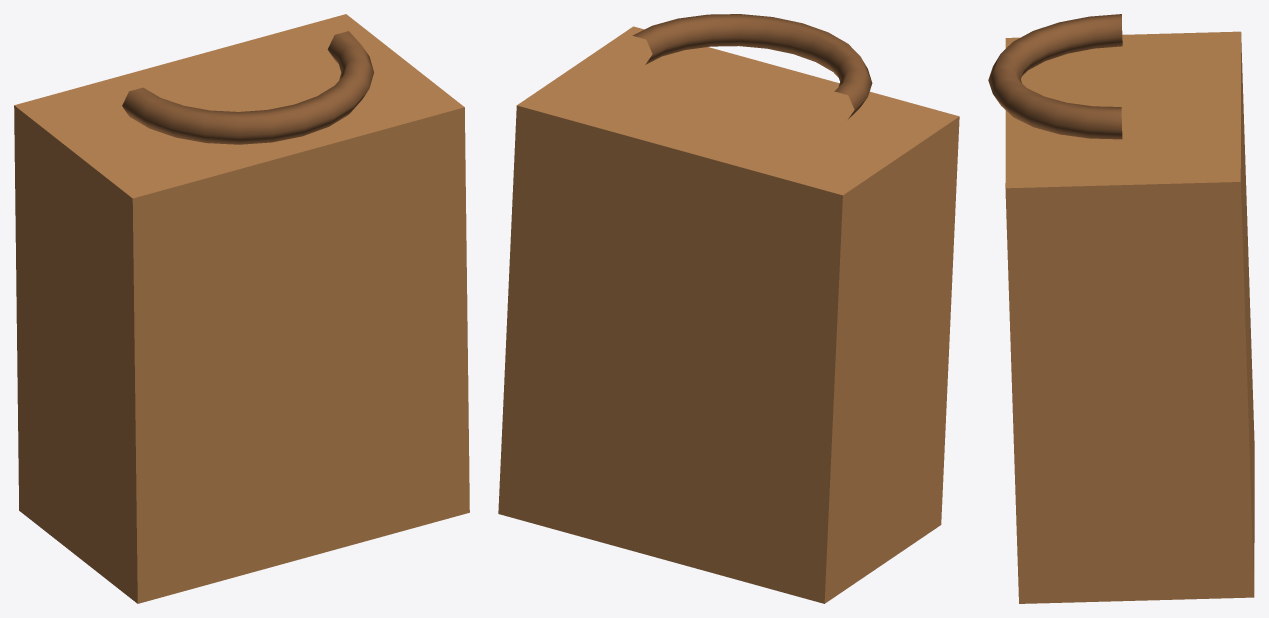
Rendered from customer-bag.glb.
3 views of the same model, side by side, from view 1: azimuth 30°, elevation 25°; view 2: azimuth 150°, elevation 25°; view 3: azimuth 270°, elevation 25° (orthographic).
Parts seen in each view (by area): view 1: n2, n3; view 2: n2, n3; view 3: n2, n3.
Boxes of the visible parts, bbox=[...] form: n2: bbox=[14, 14, 469, 603]; n3: bbox=[122, 31, 373, 144]; n2: bbox=[498, 26, 959, 603]; n3: bbox=[632, 14, 872, 119]; n2: bbox=[1005, 31, 1254, 603]; n3: bbox=[988, 14, 1122, 139].
Bounding box in the file's own units: 0.4348 × 0.5695 × 0.2943.
